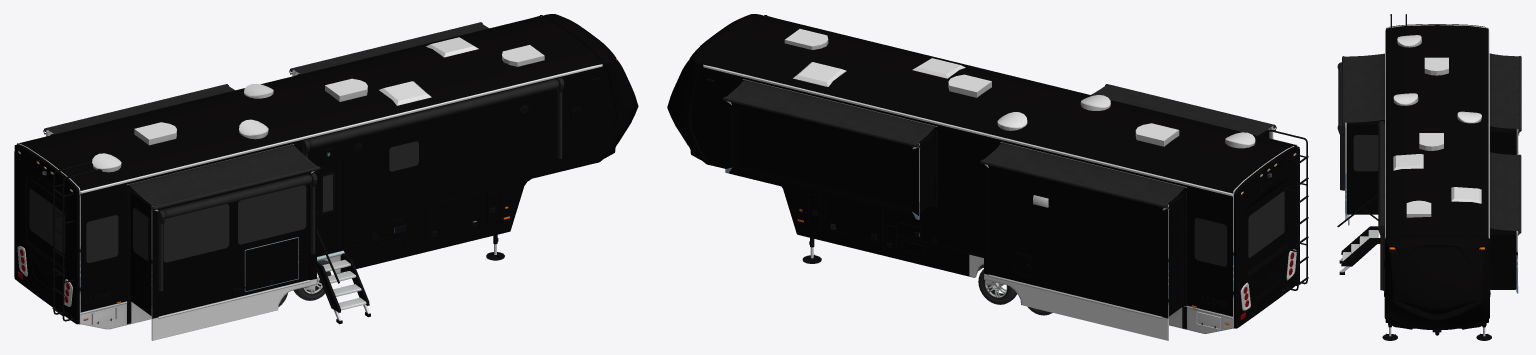
Rendered from Luxe_Gold_38GFB.glb.
The picture shows the model from 3 angles, left to right: view 1: azimuth 30°, elevation 25°; view 2: azimuth 150°, elevation 25°; view 3: azimuth 270°, elevation 25°; orthographic projection. The views are drawn at different scales.
Visible parts, largest first — view 1: exterior_body, slideout_back_right, shade3, shade2, shade1, shade5, stair_main, shade4; view 2: exterior_body, slideout_back_left, slideout_front_left, shade5, shade4, shade3, wheels; view 3: exterior_body, slideout_back_right, shade3, shade5, shade4, slideout_front_left, shade2, stair_main, slideout_back_left, shade1, stair_main_handle.
Boxes of the visible parts, box(x1,y1,x2,y2) form: exterior_body: box(14, 14, 638, 329); slideout_back_right: box(130, 170, 316, 340); shade3: box(127, 144, 320, 210); shade2: box(302, 77, 564, 158); shade1: box(157, 172, 317, 291); shade5: box(289, 22, 488, 74); stair_main: box(317, 253, 370, 324); shade4: box(43, 84, 234, 134); exterior_body: box(667, 14, 1308, 333); slideout_back_left: box(984, 164, 1182, 340); slideout_front_left: box(725, 101, 933, 219); shade5: box(723, 79, 937, 148); shade4: box(980, 142, 1186, 209); shade3: box(1091, 84, 1276, 135); wheels: box(978, 269, 1052, 315); exterior_body: box(1382, 14, 1491, 340); slideout_back_right: box(1345, 120, 1384, 225); shade3: box(1342, 53, 1384, 126); shade5: box(1489, 152, 1521, 235); shade4: box(1489, 53, 1521, 133); slideout_front_left: box(1490, 228, 1518, 293); shade2: box(1378, 121, 1384, 290); stair_main: box(1339, 226, 1380, 274); slideout_back_left: box(1490, 126, 1519, 154); shade1: box(1337, 62, 1345, 190); stair_main_handle: box(1337, 194, 1378, 227).
Bounding box in the file's own units: 13.98 × 4.18 × 4.62.
25 materials, 11 textured.
